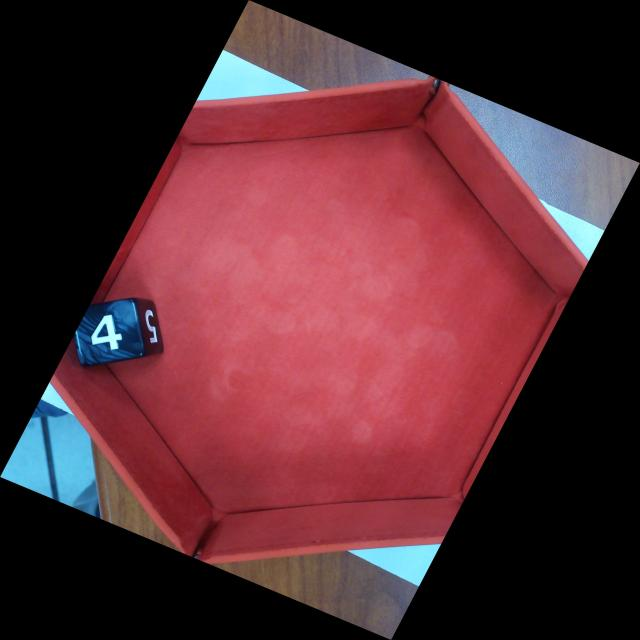dice: (80, 300, 148, 369)
